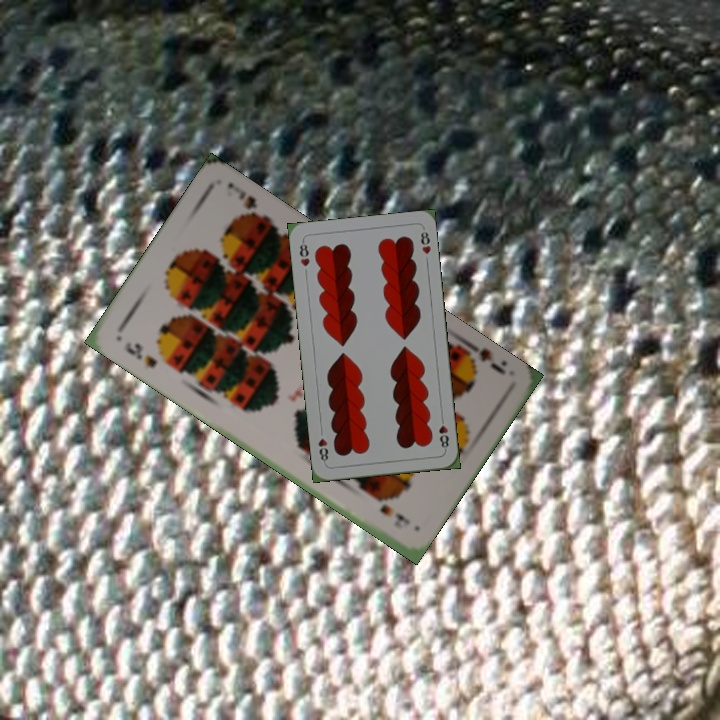H8: (435, 412, 451, 453), (296, 237, 312, 269)
S9: (458, 336, 509, 377), (120, 337, 160, 371)
